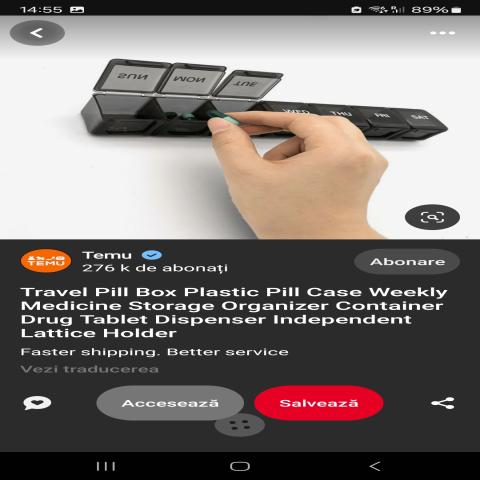Pill-box: (87, 42, 450, 160)
